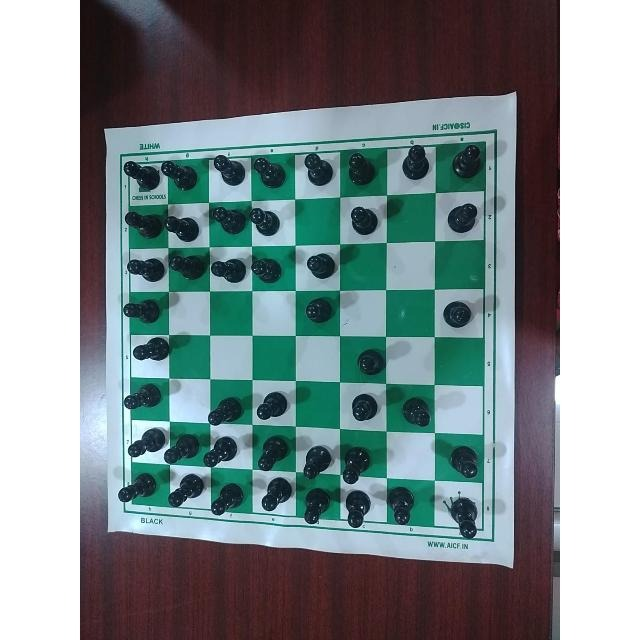black-pawn: (444, 442, 486, 483), (388, 487, 424, 529), (444, 495, 478, 538), (257, 474, 294, 513), (121, 157, 161, 193), (207, 203, 249, 237), (164, 474, 206, 508), (399, 145, 436, 183), (162, 152, 198, 191), (250, 154, 290, 189), (124, 423, 166, 456), (128, 335, 172, 366), (300, 148, 334, 188), (117, 471, 159, 503), (249, 204, 286, 240), (165, 205, 201, 242), (249, 250, 286, 286), (398, 392, 434, 429), (448, 143, 483, 181), (124, 208, 165, 240), (346, 202, 382, 238), (443, 201, 481, 235), (124, 380, 162, 414), (302, 487, 332, 529), (345, 150, 379, 187), (210, 254, 250, 285), (122, 297, 166, 325), (342, 444, 372, 485), (211, 153, 245, 189), (305, 247, 341, 281), (209, 482, 245, 516), (165, 430, 201, 464), (205, 393, 244, 424), (124, 254, 164, 284), (442, 295, 476, 330), (353, 342, 389, 375), (258, 436, 291, 472), (202, 434, 238, 467), (343, 488, 372, 528), (167, 252, 204, 282), (347, 392, 380, 425), (255, 391, 289, 422), (302, 298, 333, 328), (303, 444, 331, 477)
